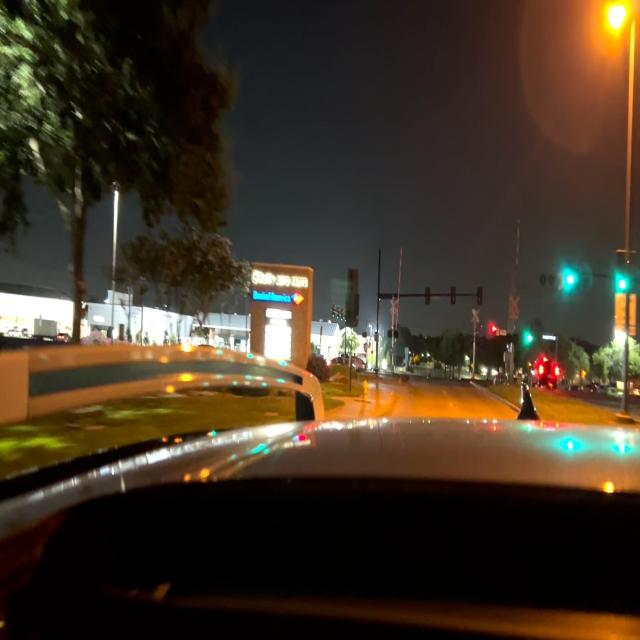back-of-sign: (346, 265, 361, 328)
